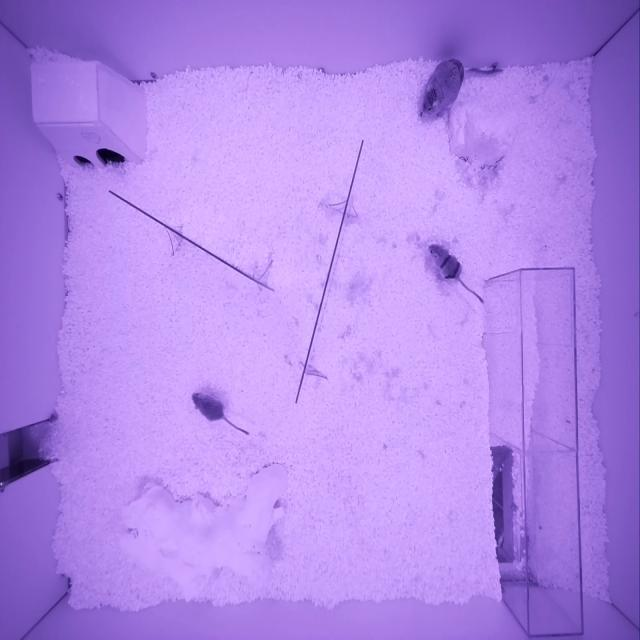adult_back: (417, 60, 464, 117)
pup_fluffy: (192, 391, 223, 421)
pup_h_stripe: (427, 244, 461, 282)
